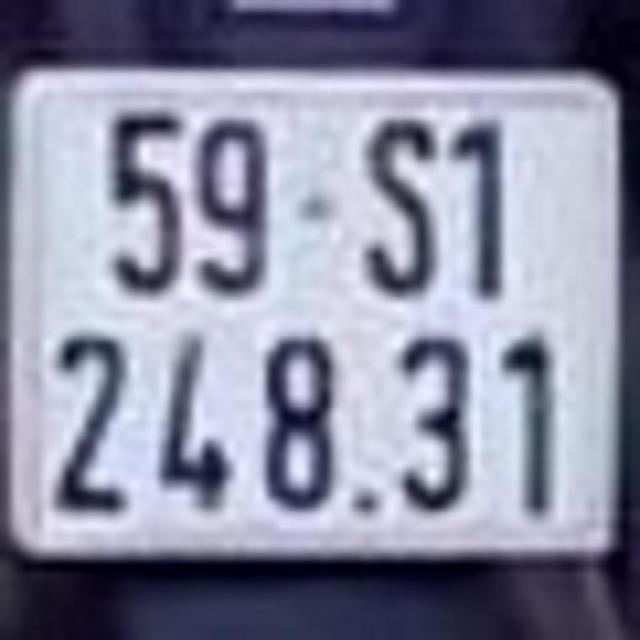1: (493, 322, 566, 517), (447, 110, 508, 300)
2: (52, 330, 131, 513)
3: (389, 330, 476, 516)
4: (152, 321, 236, 506)
5: (106, 100, 185, 294)
8: (259, 328, 336, 506)
9: (193, 114, 274, 305)
S: (352, 106, 442, 296)
